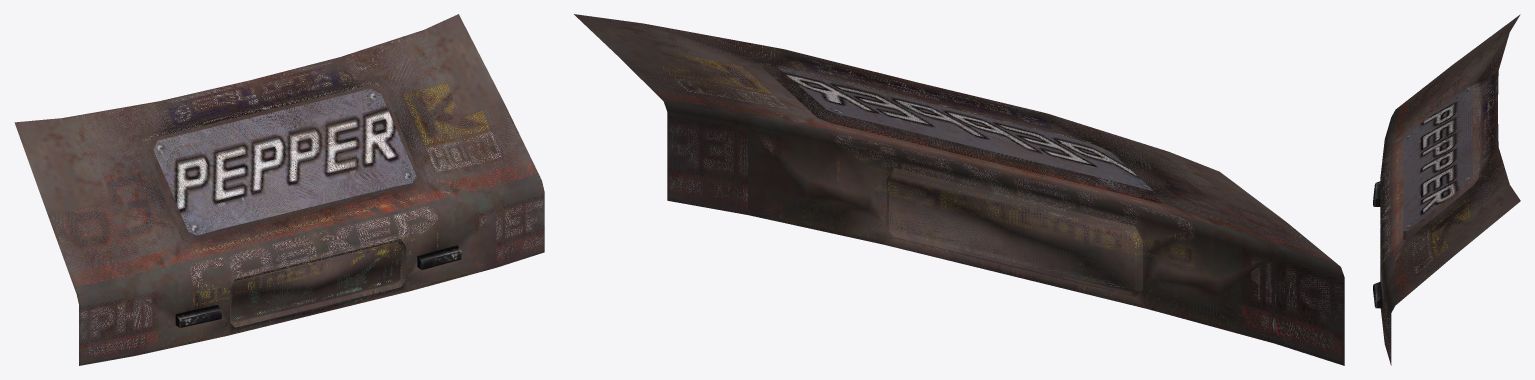
Rendered from trunk.fbx.
3 views of the same model, side by side, from view 1: azimuth 30°, elevation 25°; view 2: azimuth 150°, elevation 25°; view 3: azimuth 270°, elevation 25° (orthographic). The views are drawn at different scales.
Parts seen in each view (by area): view 1: trunk.001; view 2: trunk.001; view 3: trunk.001.
Part boxes in pixels (x1,y1,x2,y2): trunk.001: [14, 14, 544, 365]; trunk.001: [574, 14, 1344, 365]; trunk.001: [1373, 14, 1520, 365].
Size of the model in its own units: 108 by 41.23 by 34.44.
